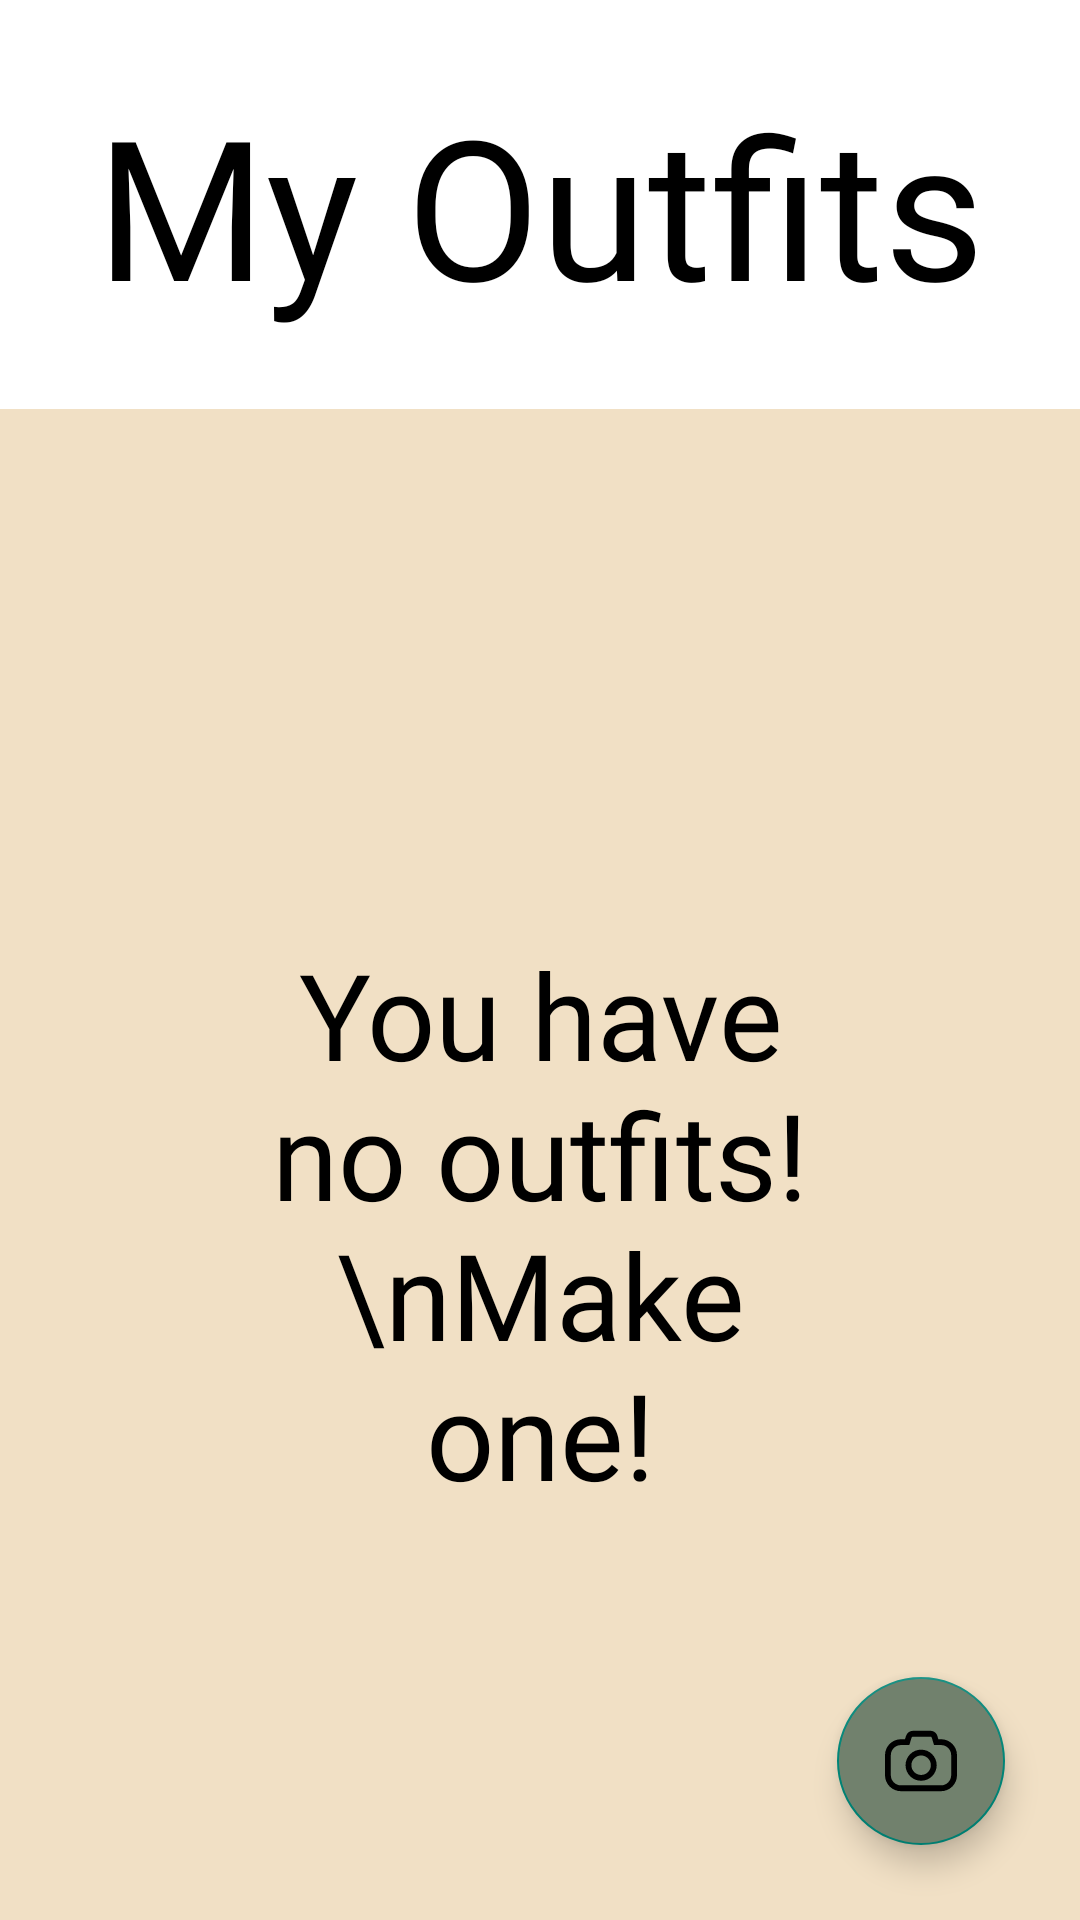

Named icons in this screenshot (1080px x 1920px) and their bounding boxes, box=[x1, y1, x2, y2]:
opens camera: box=[837, 1677, 1005, 1845]
